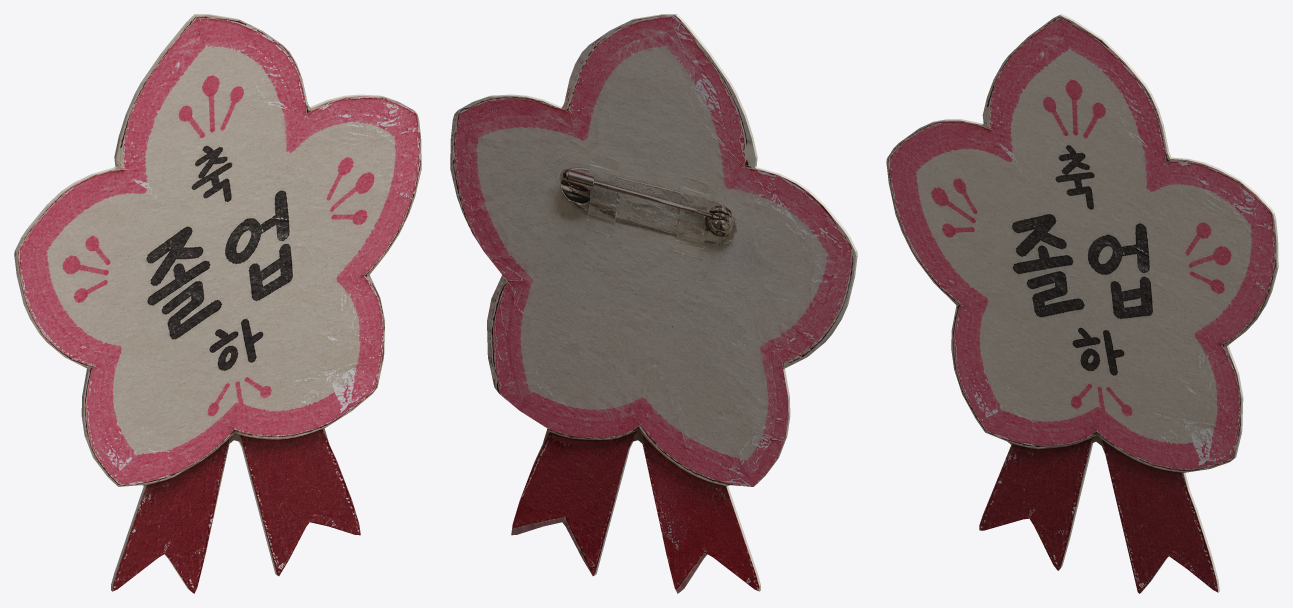
Rendered from Badge.glb.
The picture shows the model from 3 angles, left to right: view 1: azimuth 30°, elevation 25°; view 2: azimuth 150°, elevation 25°; view 3: azimuth 330°, elevation 25°; orthographic projection. The views are drawn at different scales.
Visible parts, largest first — view 1: Badge; view 2: Badge; view 3: Badge.
Boxes of the visible parts, x1,y1,x2,y2 form: Badge: (14,14,421,593); Badge: (450,14,857,593); Badge: (886,14,1278,593).
Size of the model in its own units: 0.0804 by 0.11 by 0.0006.
Materials: 3 (2 with a texture image).
